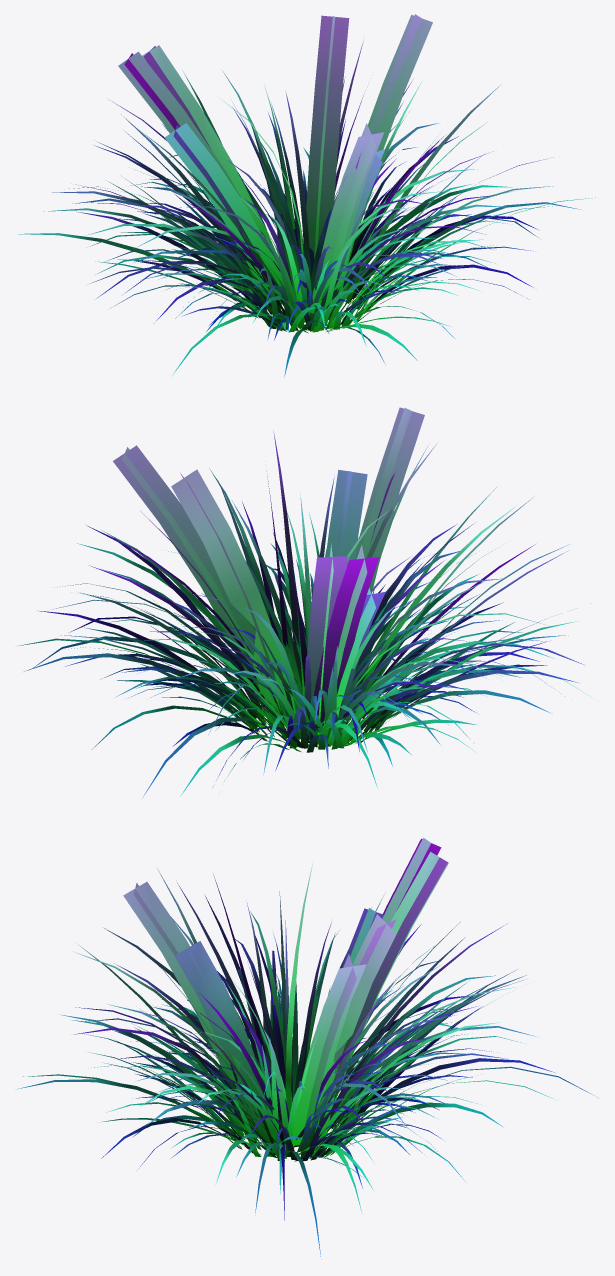
The model's file is Grass_DikeTuft_B_HD.fbx.
3 renders of one model, top to bottom at view 1: azimuth 30°, elevation 25°; view 2: azimuth 150°, elevation 25°; view 3: azimuth 270°, elevation 25°, orthographic. The views are drawn at different scales.
Visible parts, largest first — view 1: Grass_DikeTuft_B_HD_LOD0; view 2: Grass_DikeTuft_B_HD_LOD0; view 3: Grass_DikeTuft_B_HD_LOD0.
Boxes of the visible parts, <box> form: Grass_DikeTuft_B_HD_LOD0: <box>18,14,595,377</box>; Grass_DikeTuft_B_HD_LOD0: <box>18,407,590,796</box>; Grass_DikeTuft_B_HD_LOD0: <box>18,837,597,1256</box>.
Size of what is drawn, in the model's own units: 0.5998 by 0.2907 by 0.6003.
